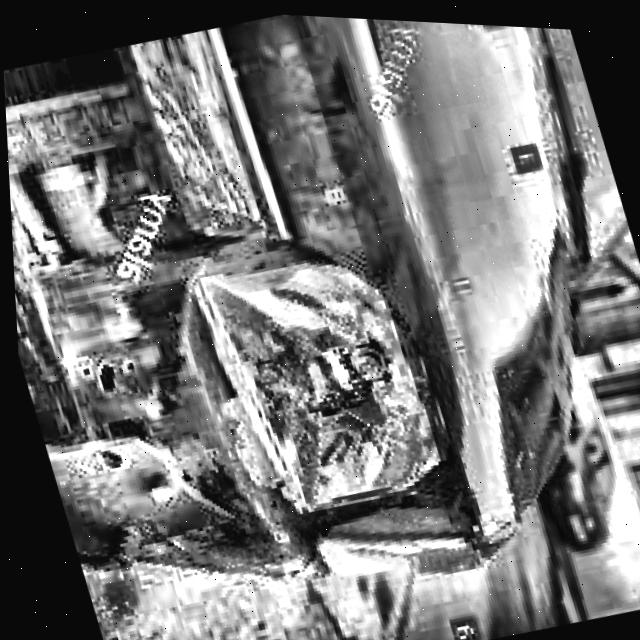head_lamp: (160, 223, 484, 624)
